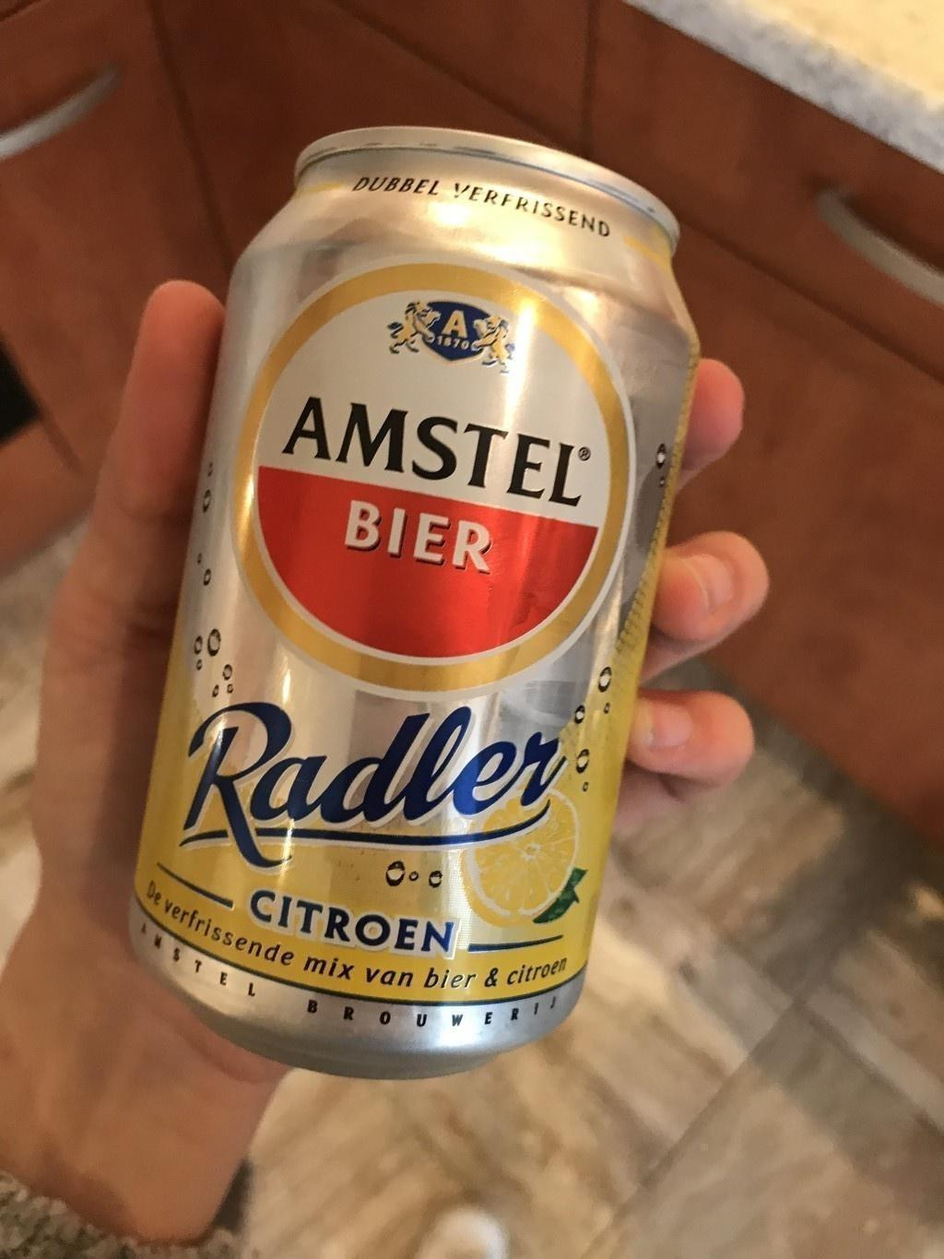tin can: (124, 115, 705, 1074)
